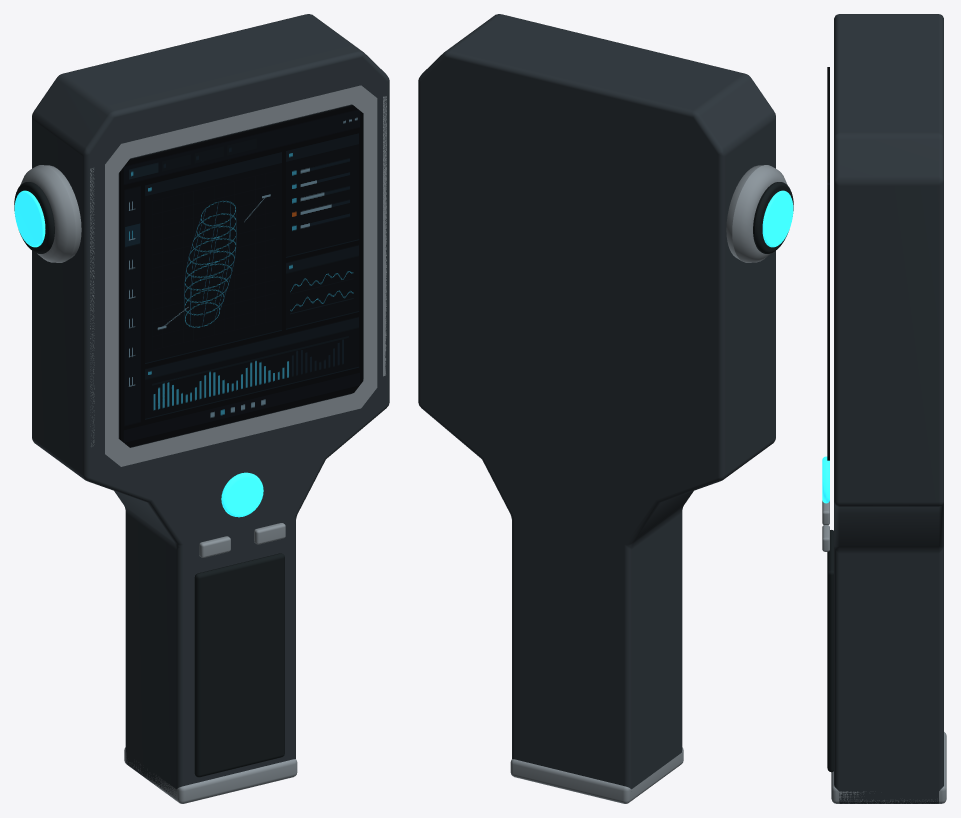
File: ZH_PROP_TOOL_AnomalyScanner.fbx
3 renders of one model, left to right at view 1: azimuth 30°, elevation 25°; view 2: azimuth 150°, elevation 25°; view 3: azimuth 270°, elevation 25°, orthographic.
Parts seen in each view (by area): view 1: Scanner | continuous body.001, Scanner | LCD.001, Scanner | front rubber.001, Scanner | fine display rim.001, Scanner | sensor surround.001, Scanner | flat heel.001, Scanner | scan button.001, Scanner | sensor ring.001, Scanner | edge trim.003, Scanner | sensor glass.001; view 2: Scanner | continuous body.001, Scanner | sensor surround.001, Scanner | flat heel.001, Scanner | sensor ring.001, Scanner | sensor glass.001; view 3: Scanner | continuous body.001, Scanner | front rubber.001, Scanner | LCD.001, Scanner | flat heel.001, Scanner | scan button.001.
Boxes of the visible parts, x1=… form: Scanner | continuous body.001: x1=32, y1=14, x2=389, y2=795; Scanner | LCD.001: x1=119, y1=105, x2=363, y2=447; Scanner | front rubber.001: x1=194, y1=553, x2=284, y2=777; Scanner | fine display rim.001: x1=105, y1=85, x2=377, y2=466; Scanner | sensor surround.001: x1=20, y1=165, x2=81, y2=262; Scanner | flat heel.001: x1=124, y1=747, x2=297, y2=803; Scanner | scan button.001: x1=221, y1=472, x2=263, y2=517; Scanner | sensor ring.001: x1=14, y1=190, x2=45, y2=247; Scanner | edge trim.003: x1=383, y1=96, x2=386, y2=376; Scanner | sensor glass.001: x1=14, y1=182, x2=54, y2=253; Scanner | continuous body.001: x1=418, y1=14, x2=775, y2=789; Scanner | sensor surround.001: x1=726, y1=165, x2=787, y2=262; Scanner | flat heel.001: x1=510, y1=747, x2=683, y2=803; Scanner | sensor ring.001: x1=762, y1=190, x2=793, y2=247; Scanner | sensor glass.001: x1=753, y1=182, x2=793, y2=253; Scanner | continuous body.001: x1=834, y1=14, x2=943, y2=803; Scanner | front rubber.001: x1=827, y1=530, x2=833, y2=772; Scanner | LCD.001: x1=827, y1=67, x2=829, y2=460; Scanner | flat heel.001: x1=831, y1=732, x2=946, y2=803; Scanner | scan button.001: x1=822, y1=456, x2=829, y2=503.
Size of the model in its own units: 0.2427 by 0.4896 by 0.0786.
Materials: 5 (1 with a texture image).
